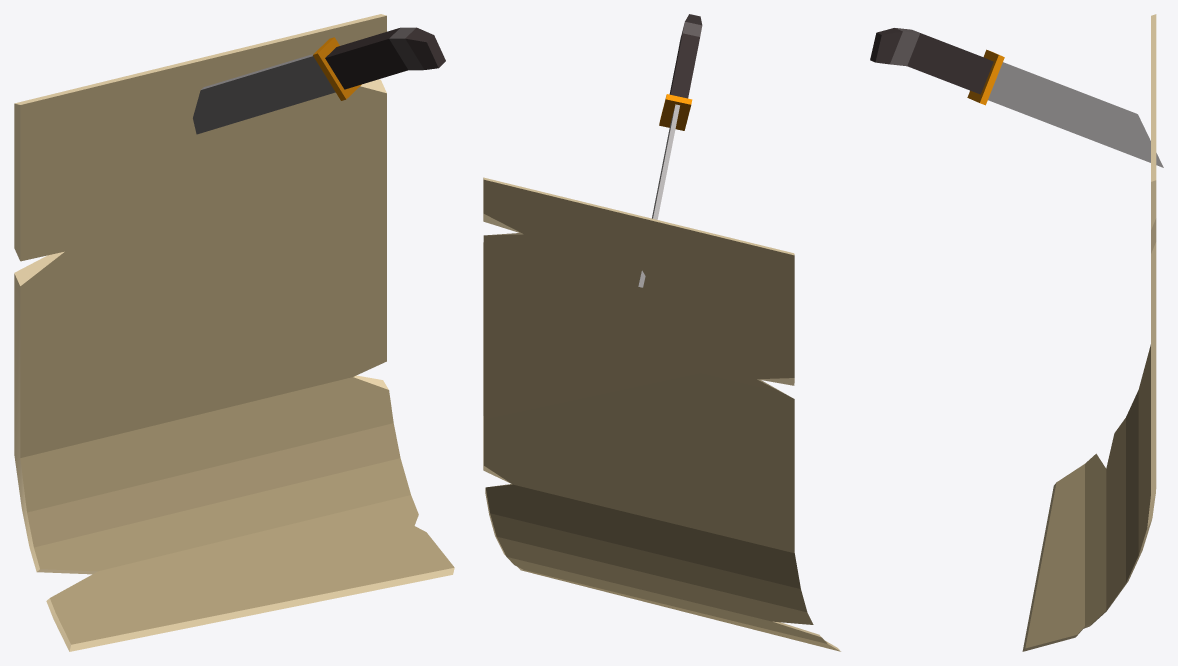
File: QR_Note.glb
3 renders of one model, left to right at view 1: azimuth 30°, elevation 25°; view 2: azimuth 150°, elevation 25°; view 3: azimuth 270°, elevation 25°, orthographic. The views are drawn at different scales.
Visible parts, largest first — view 1: QR_PirateNote; view 2: QR_PirateNote; view 3: QR_PirateNote.
Boxes of the visible parts, box(x1,y1,x2,y2) form: QR_PirateNote: box(14, 14, 454, 651); QR_PirateNote: box(483, 14, 840, 651); QR_PirateNote: box(870, 14, 1163, 651).
Size of what is drawn, in the model's own units: 0.5815 by 0.9298 by 0.4309.
1 material, 1 textured.
